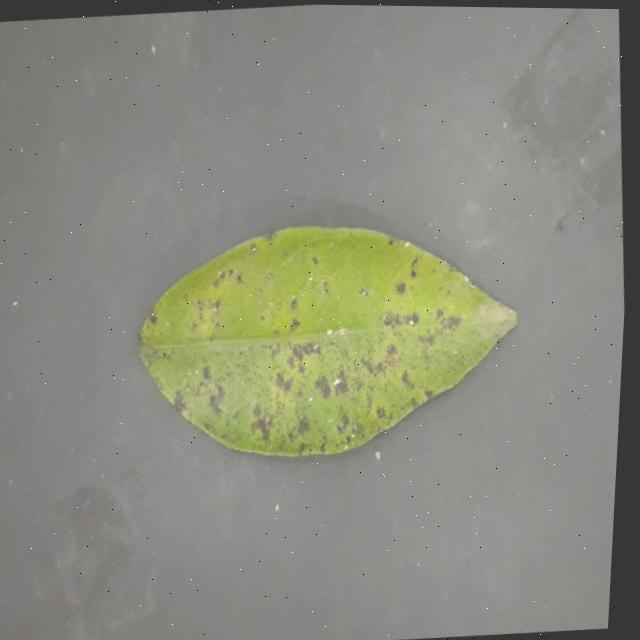greasy_spot: (138, 226, 517, 456)
